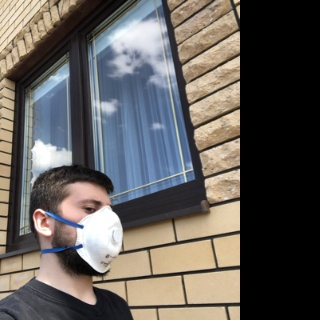with_mask: (68, 195, 124, 276)
